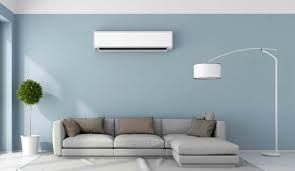ac: (91, 27, 174, 55)
